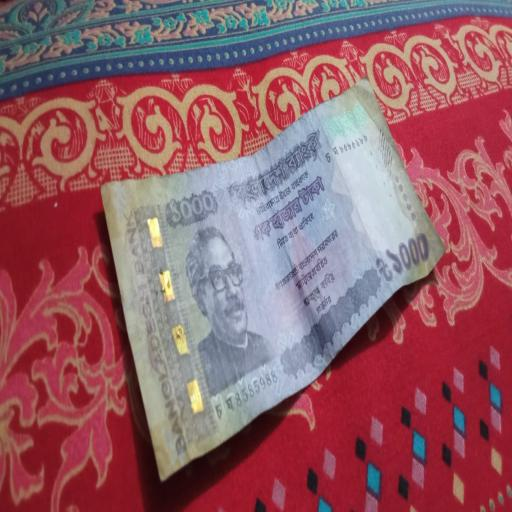1000taka: (101, 80, 445, 483)
